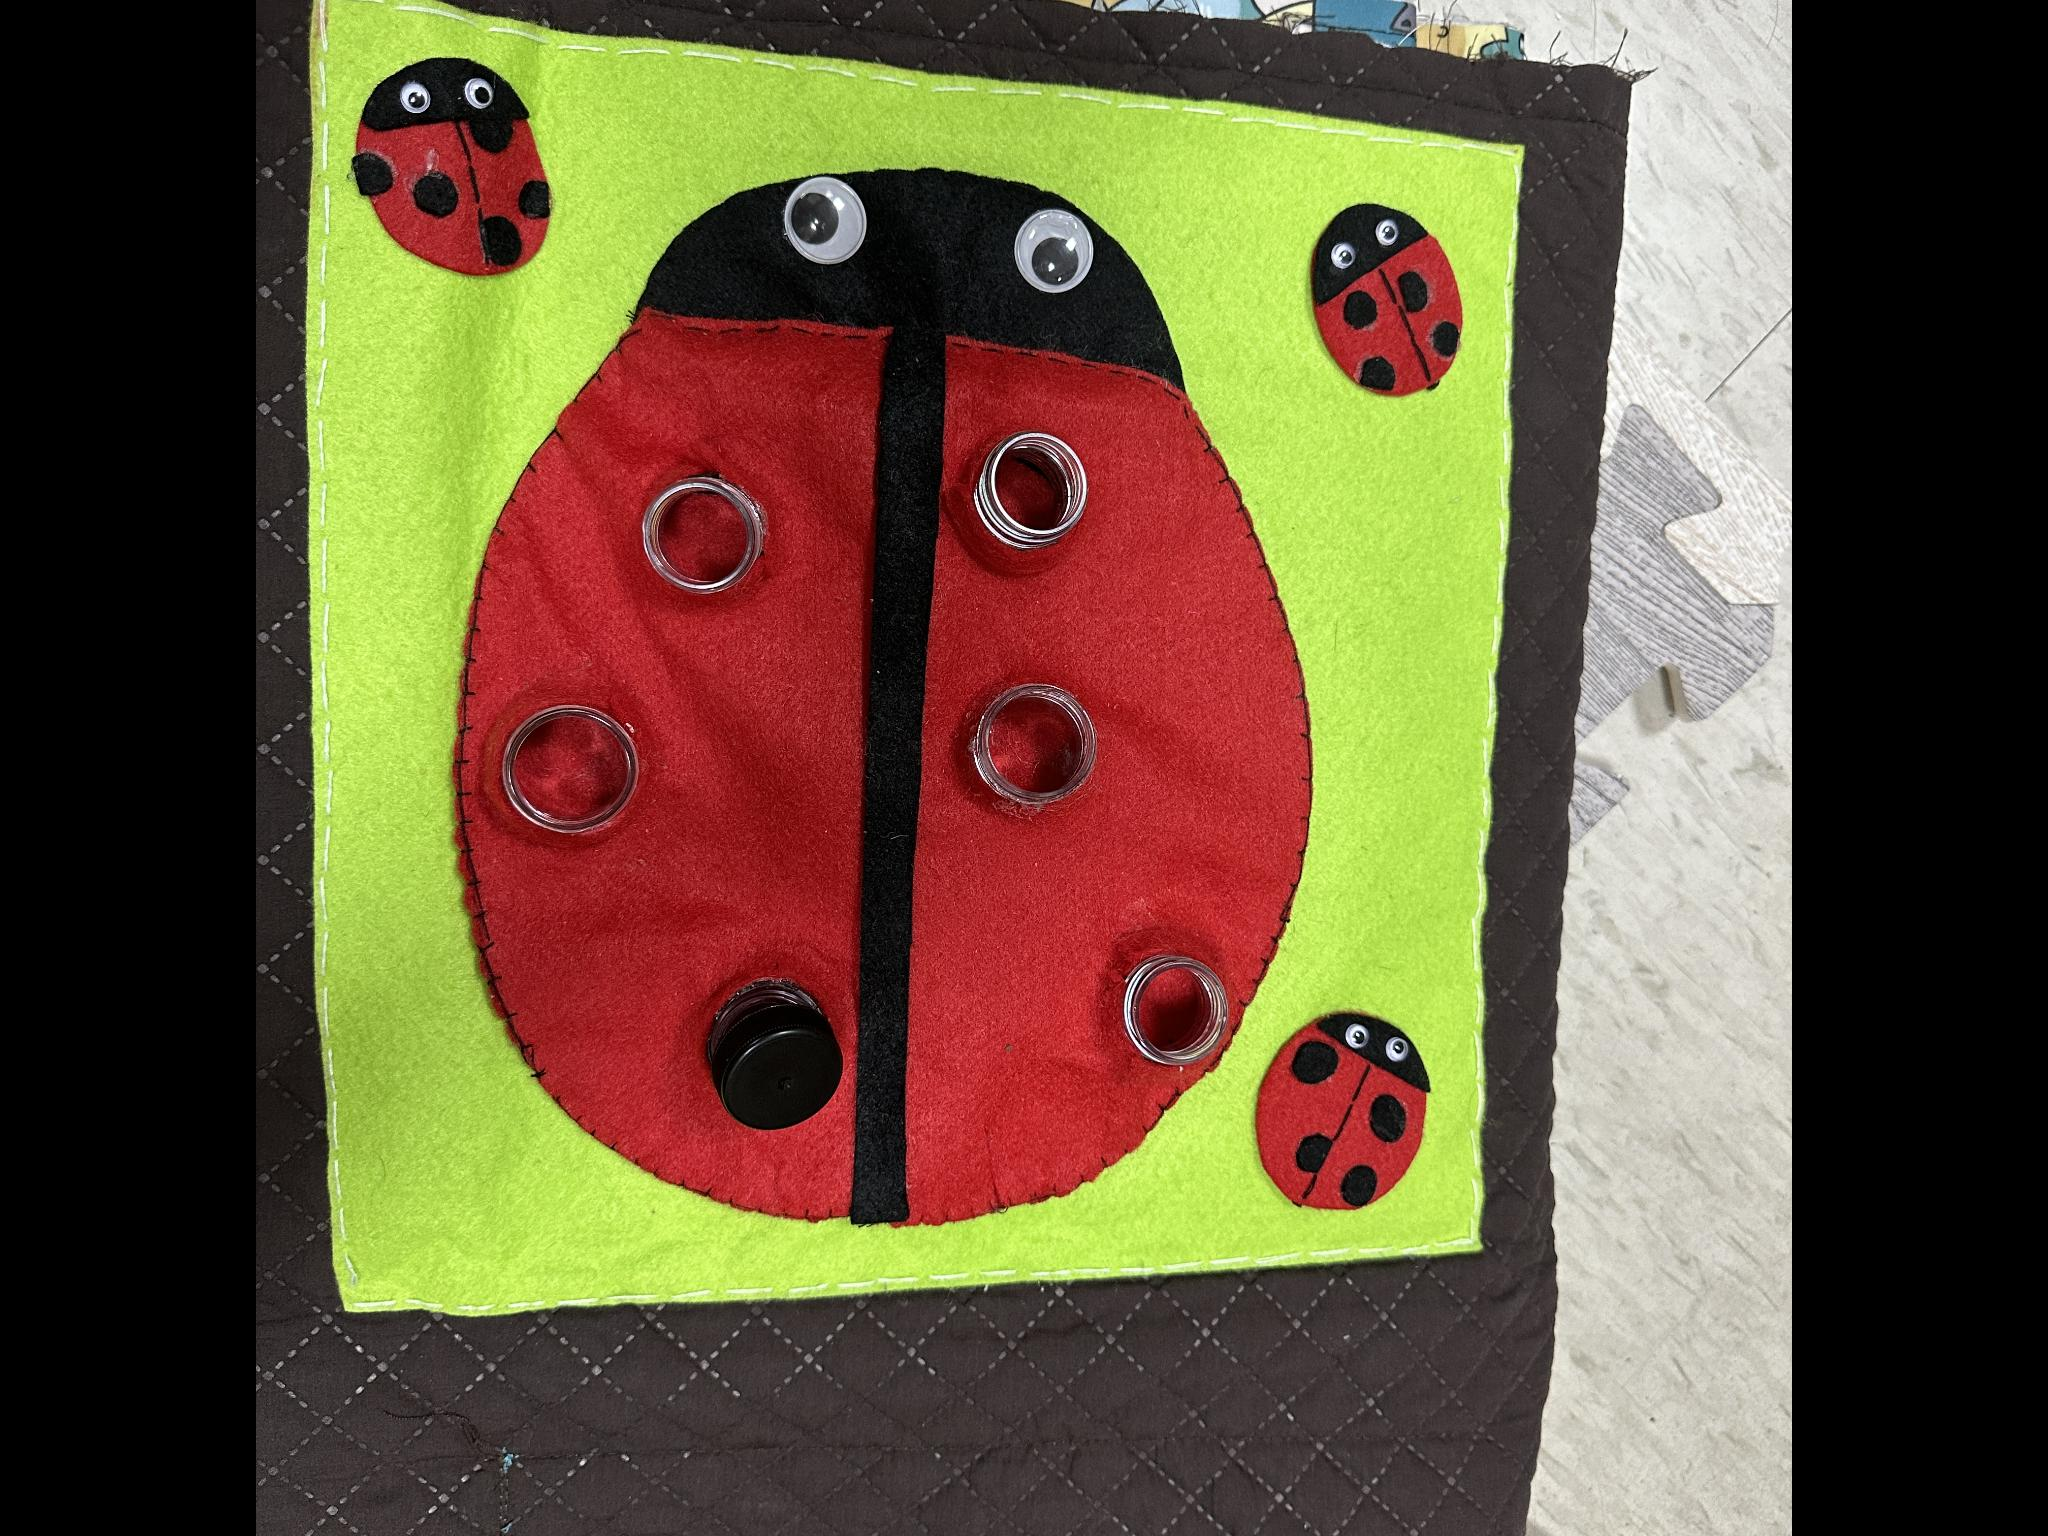cap_ng: (697, 965, 848, 1142)
